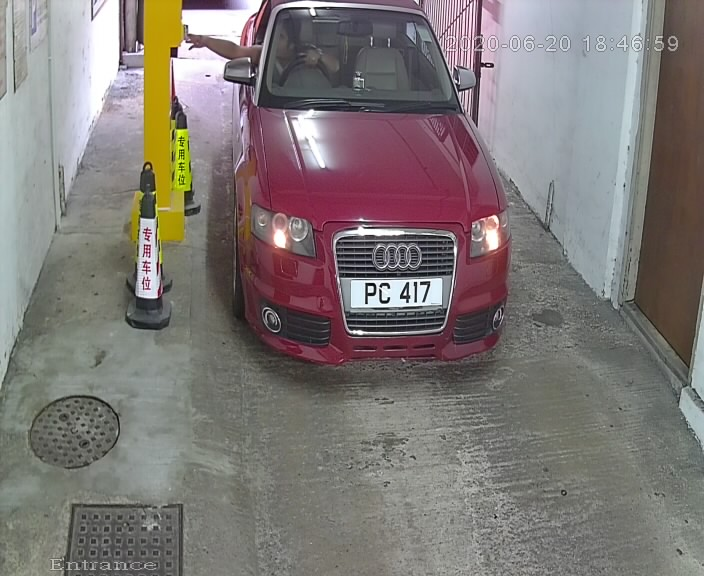privatecar: (209, 2, 535, 387)
